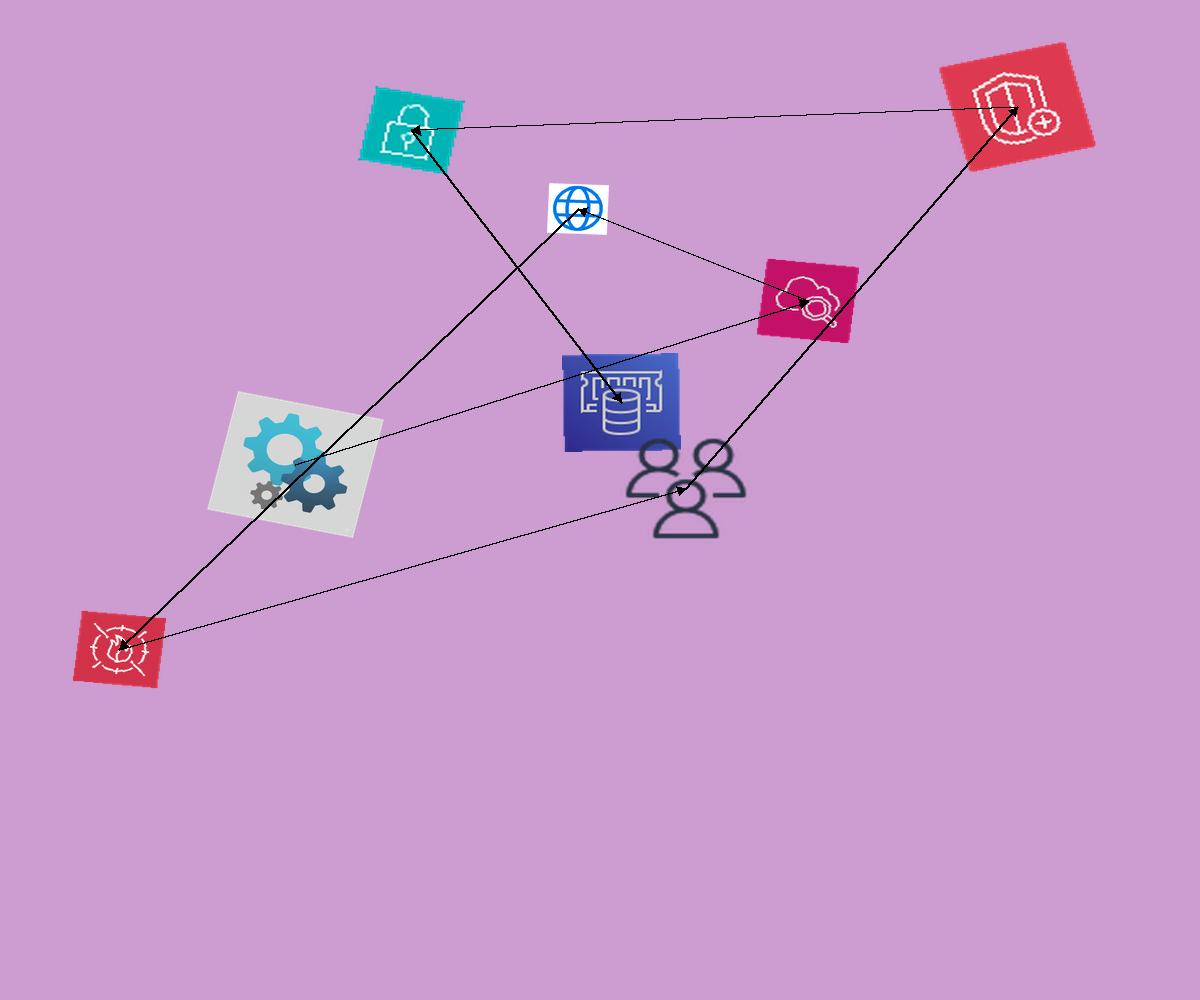AWS-CloudWatch: (756, 258, 860, 344)
AWS-ElastiCache: (562, 353, 681, 452)
AWS-Private-subnet: (358, 86, 465, 175)
AWS-Res_Users: (618, 432, 754, 545)
AWS-Shield: (938, 41, 1097, 173)
AWS-WAF: (72, 610, 167, 689)
Azure_api: (207, 391, 384, 538)
Azure_http: (547, 183, 609, 235)
